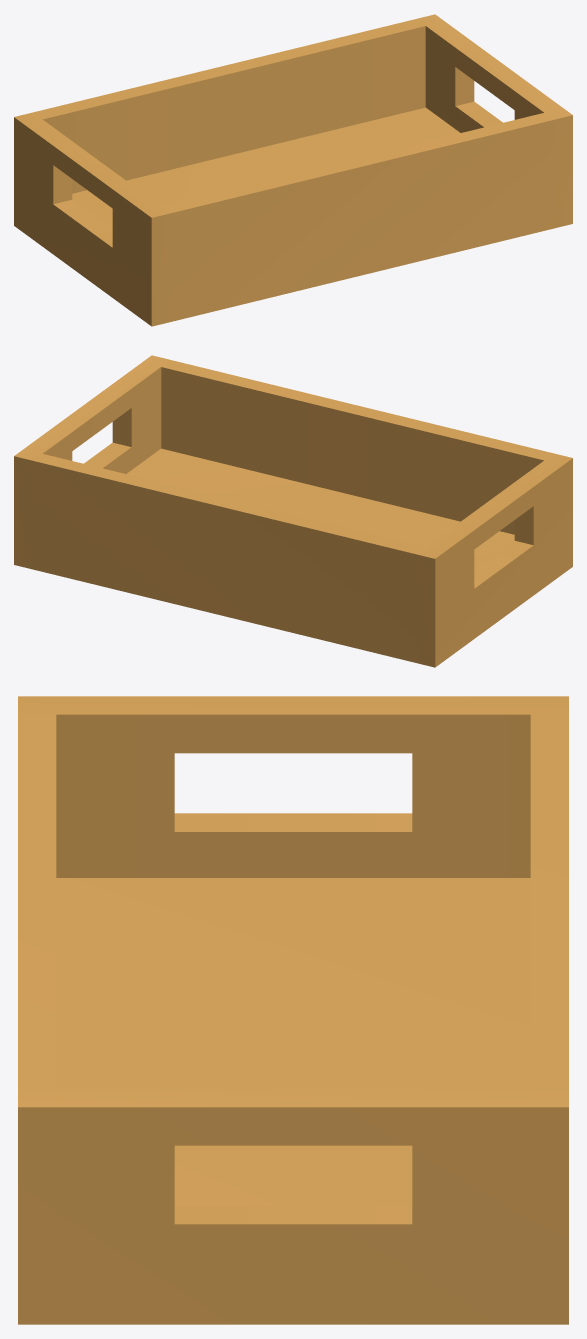
3 renders of one model, top to bottom at view 1: azimuth 30°, elevation 25°; view 2: azimuth 150°, elevation 25°; view 3: azimuth 270°, elevation 25°, orthographic. The views are drawn at different scales.
Parts seen in each view (by area): view 1: Box; view 2: Box; view 3: Box.
Boxes of the visible parts, x1,y1,x2,y2 form: Box: [14, 14, 572, 326]; Box: [14, 355, 572, 667]; Box: [18, 696, 568, 1324].
Size of the model in its own units: 76.36 by 18.84 by 43.28.
